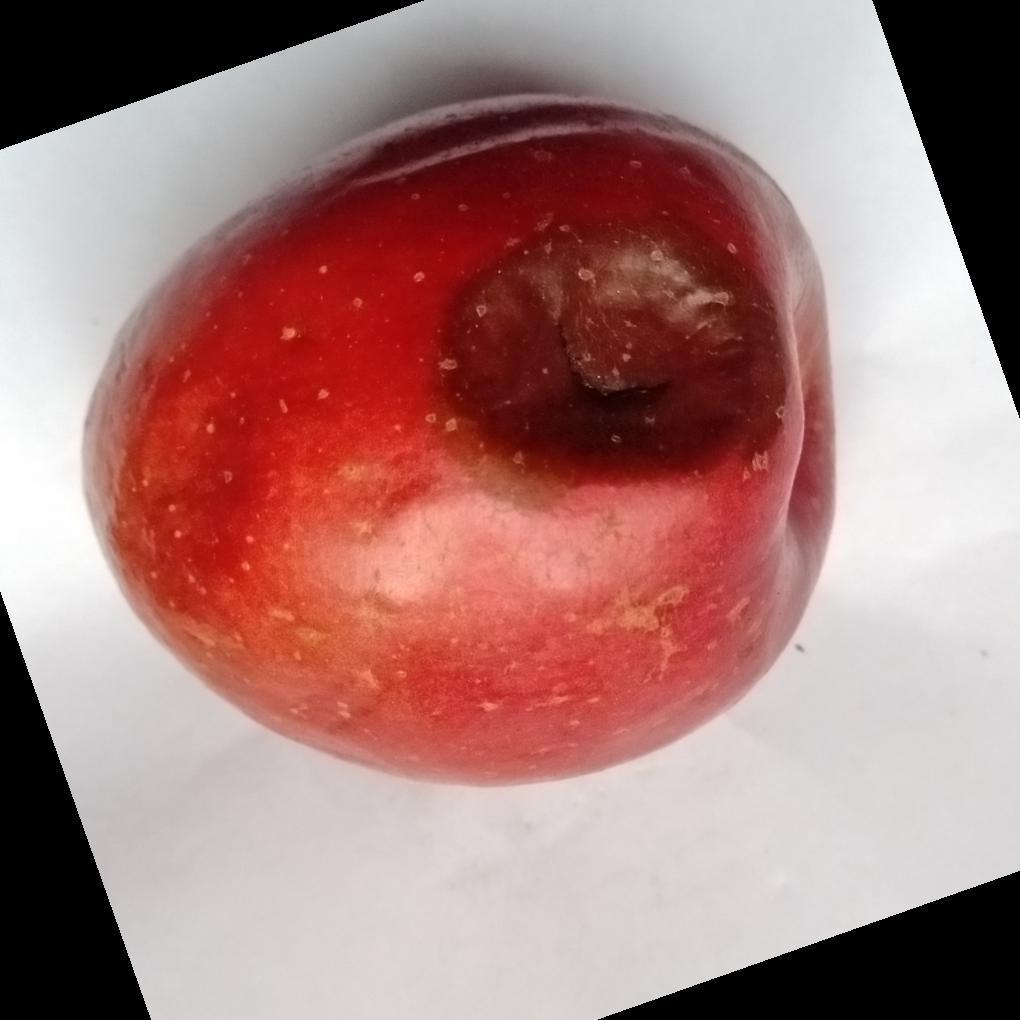FreshOrange: (80, 96, 839, 791)
